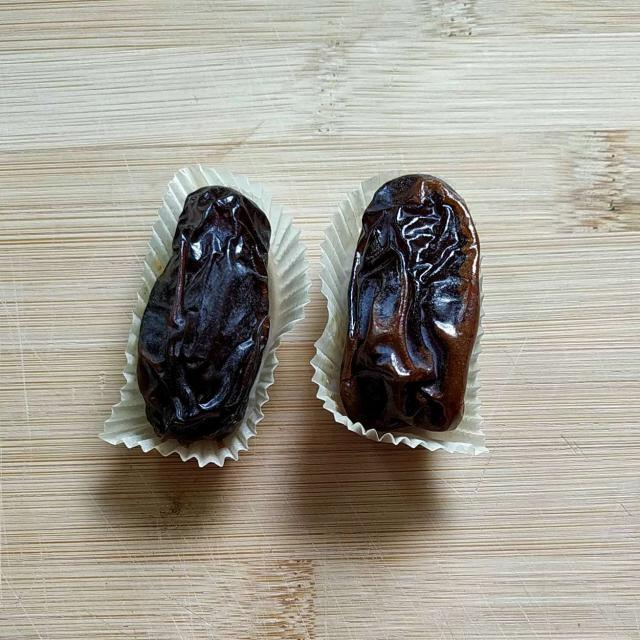dates: (129, 171, 481, 438)
